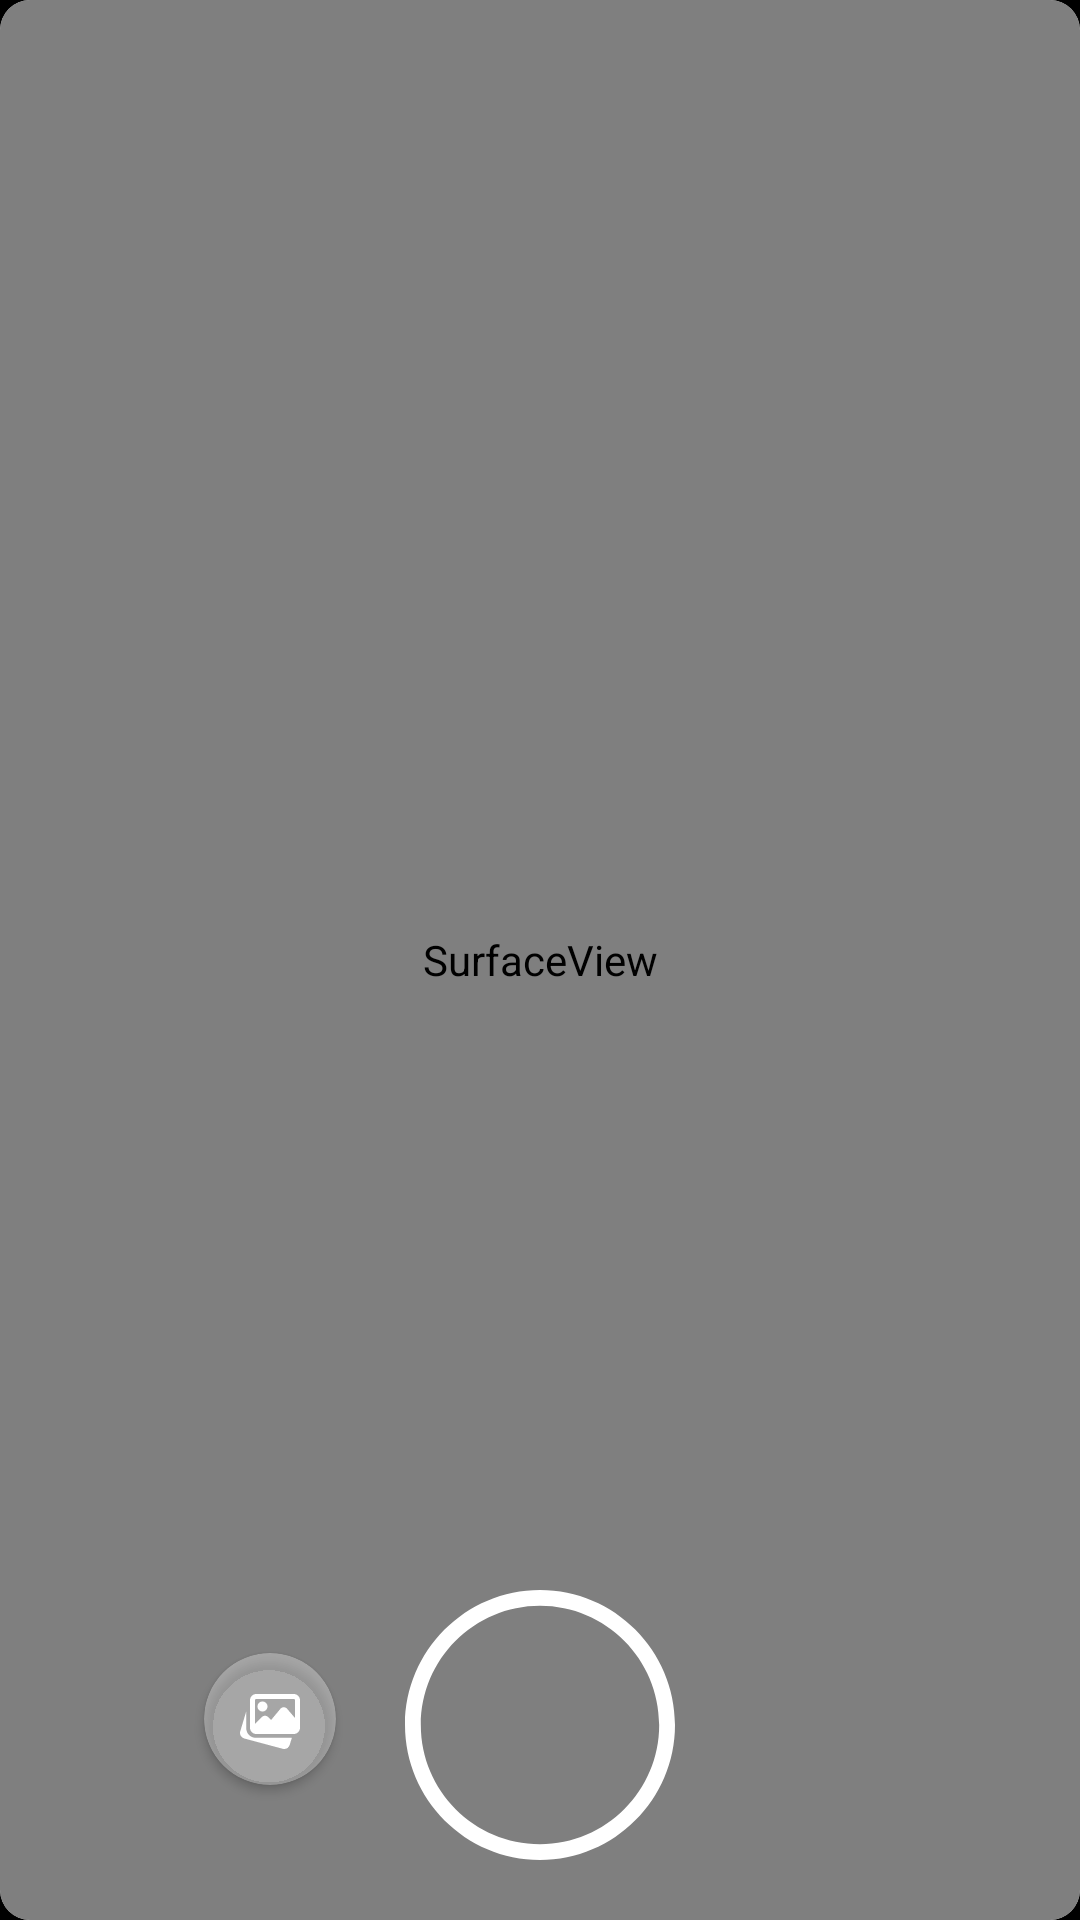

Named icons in this screenshot (1080px x 1920px) and their centers, (x,y):
gallery: (270,1721)
